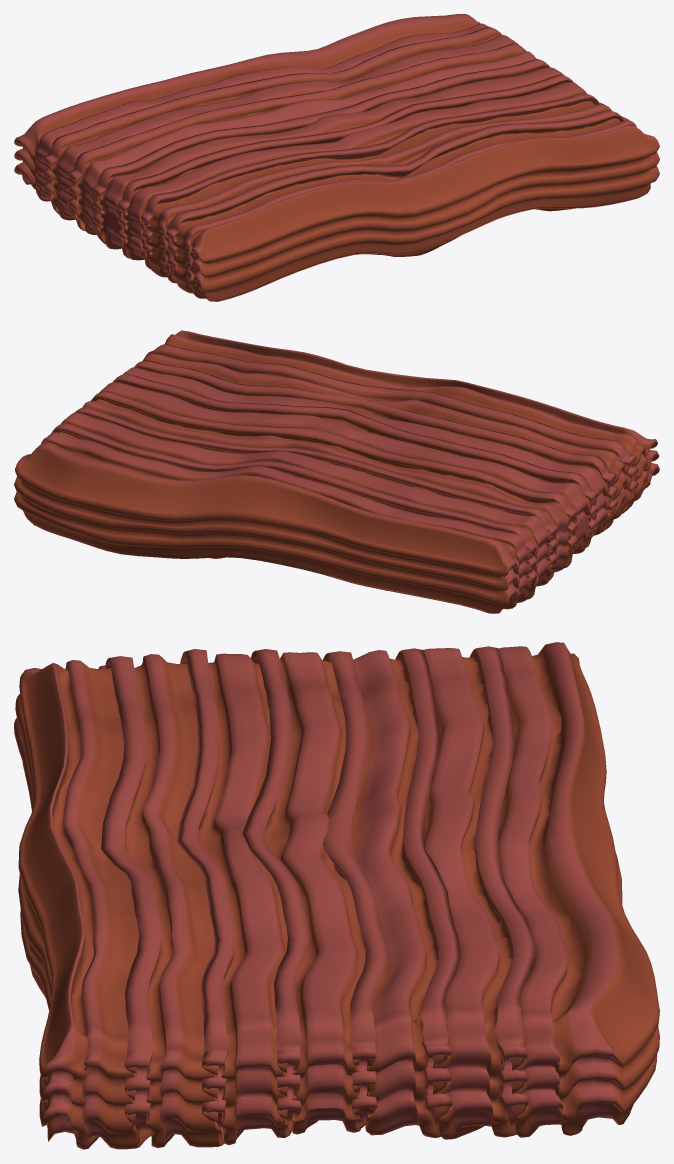
The model's file is Mince.fbx.
3 views of the same model, one above another, from view 1: azimuth 30°, elevation 25°; view 2: azimuth 150°, elevation 25°; view 3: azimuth 270°, elevation 25° (orthographic). The views are drawn at different scales.
Visible parts, largest first — view 1: Mince; view 2: Mince; view 3: Mince.
Part boxes in pixels (x1,y1,x2,y2): Mince: (14, 14, 659, 301); Mince: (14, 330, 659, 613); Mince: (14, 642, 659, 1149).
Size of the model in its own units: 28.84 by 5.46 by 19.65.
